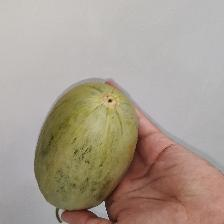gua: (13, 87, 124, 204)
